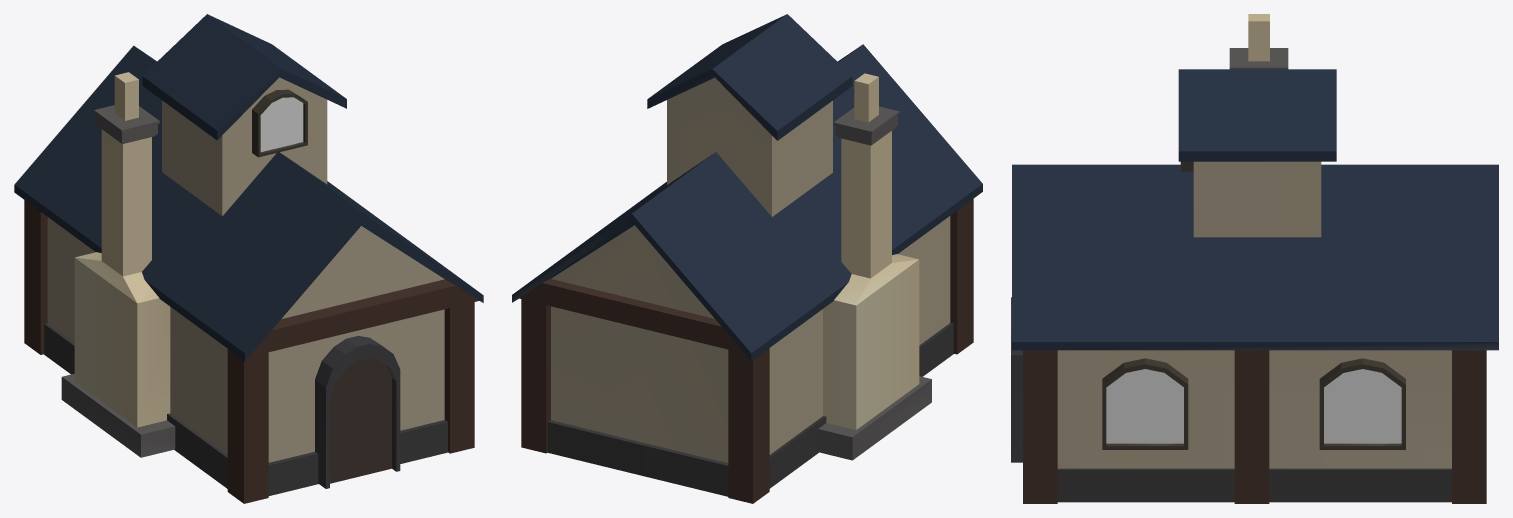
Rendered from CasasAtriet03.fbx.
3 views of the same model, side by side, from view 1: azimuth 30°, elevation 25°; view 2: azimuth 150°, elevation 25°; view 3: azimuth 270°, elevation 25° (orthographic). The views are drawn at different scales.
Visible parts, largest first — view 1: Casa03_LOD0; view 2: Casa03_LOD0; view 3: Casa03_LOD0.
Part boxes in pixels (x1,y1,x2,y2): Casa03_LOD0: (14,14,483,503); Casa03_LOD0: (512,14,982,503); Casa03_LOD0: (1011,14,1498,503).
Size of what is drawn, in the model's own units: 507 by 646 by 764.
